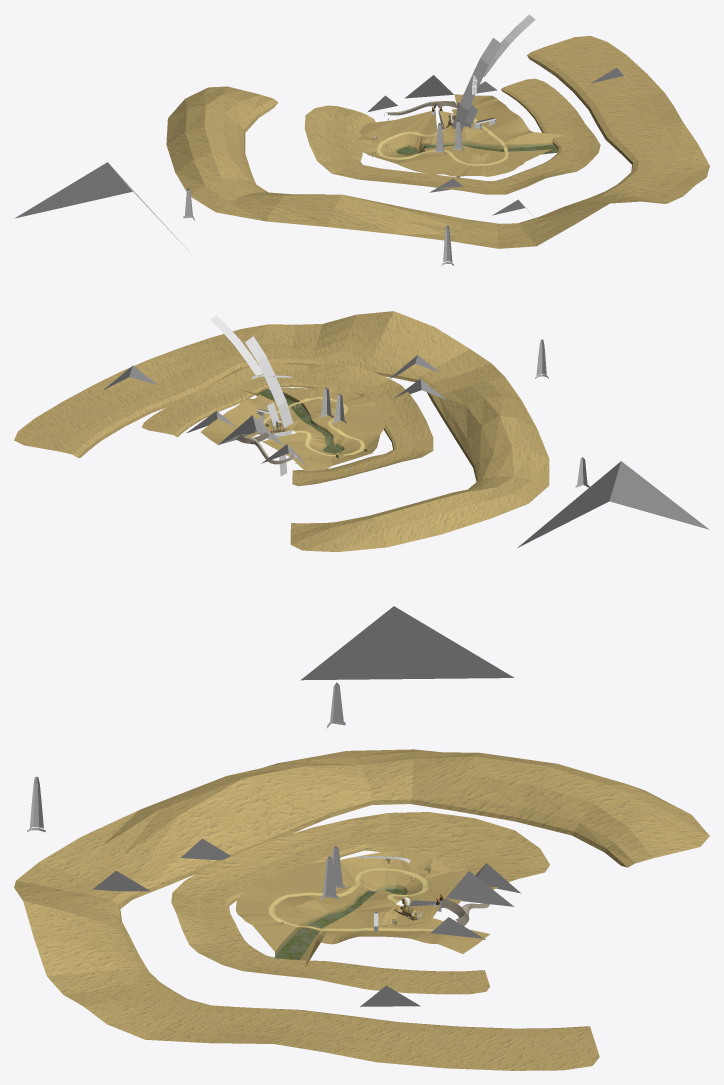
The model's file is track.glb.
The picture shows the model from 3 angles, top to bottom: view 1: azimuth 30°, elevation 25°; view 2: azimuth 150°, elevation 25°; view 3: azimuth 270°, elevation 25°; orthographic projection. The views are drawn at different scales.
Parts seen in each view (by area): view 1: mesh_7, mesh_5, mesh_16, mesh_0, mesh_6, mesh_8; view 2: mesh_7, mesh_5, mesh_16, mesh_0, mesh_8, mesh_6; view 3: mesh_7, mesh_5, mesh_0, mesh_6, mesh_8.
Part boxes in pixels (x1,y1,x2,y2): mesh_7: (166,36,709,248); mesh_5: (15,67,638,255); mesh_16: (452,14,535,177); mesh_0: (185,109,462,262); mesh_6: (377,103,509,165); mesh_8: (397,144,557,155); mesh_7: (14,311,549,551); mesh_5: (104,355,709,547); mesh_16: (210,315,292,476); mesh_0: (267,339,587,485); mesh_8: (255,389,341,453); mesh_6: (263,397,365,456); mesh_7: (14,749,709,1070); mesh_5: (92,606,520,1006); mesh_0: (29,682,444,911); mesh_6: (268,868,434,931); mesh_8: (274,889,405,959).
Size of the model in its own units: 1832 by 405 by 1287.
7 materials, 7 textured.
